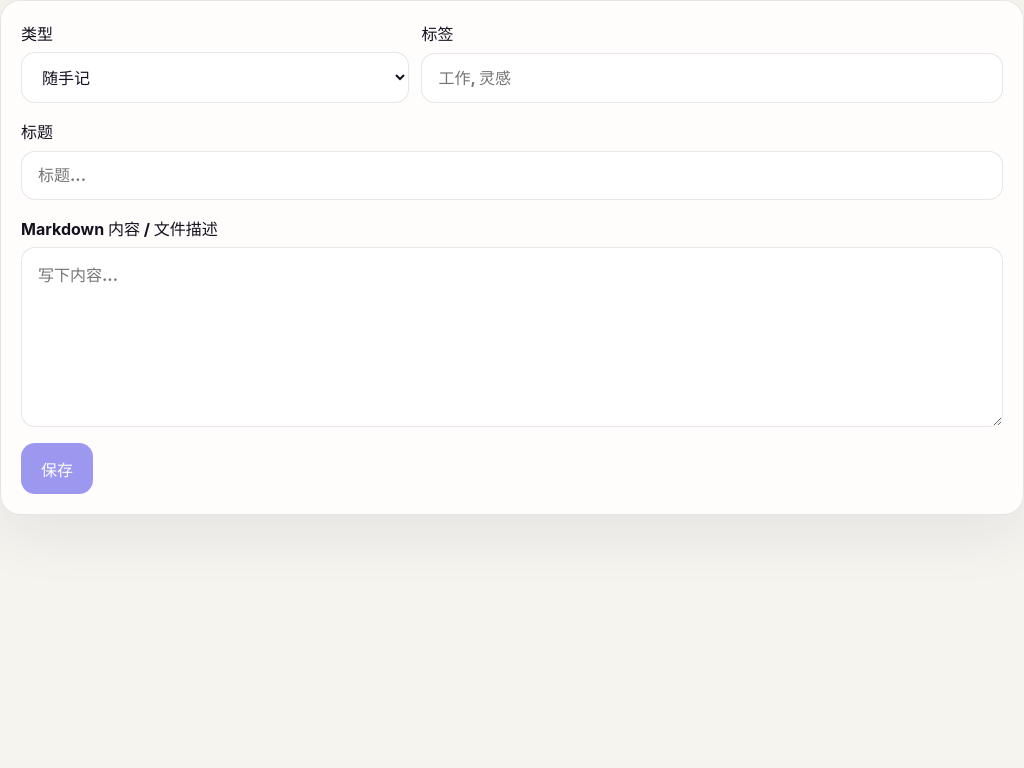
Test: Composer › keeps form values and shows an error when saving fails
In the field labelled "标题": (512, 175) 21,151 -> 1003,200, type "Unsaved note"
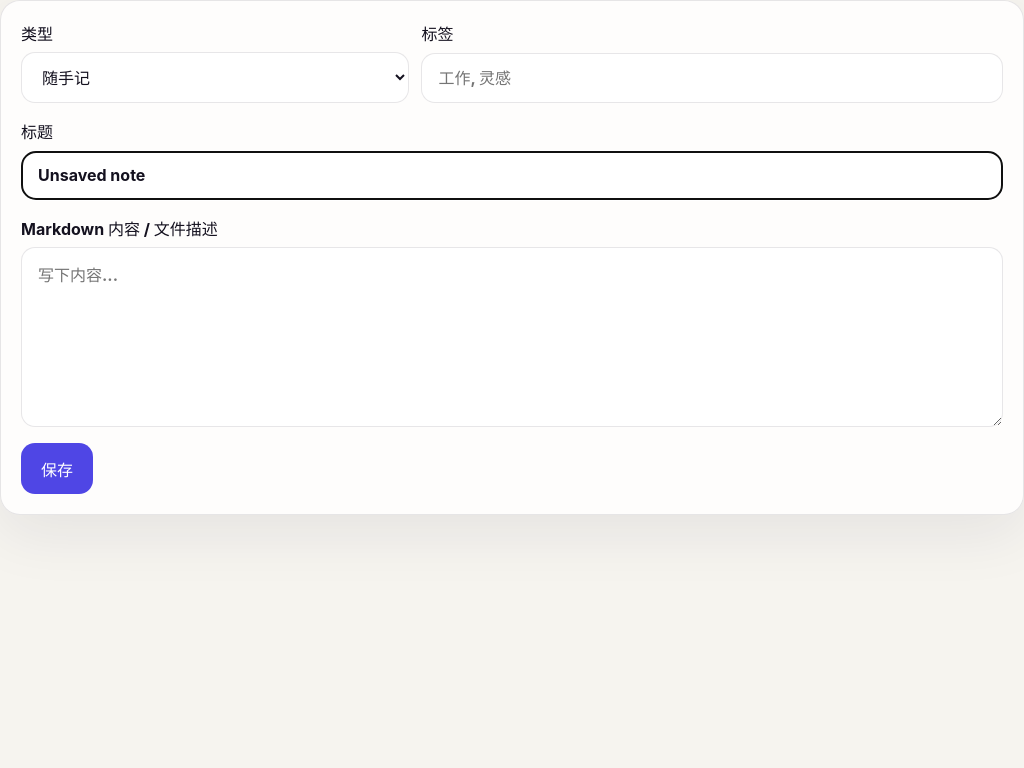
In the text box labelled "Markdown 内容 / 文件描述": (512, 337) 21,247 -> 1003,427, type "Keep this body"
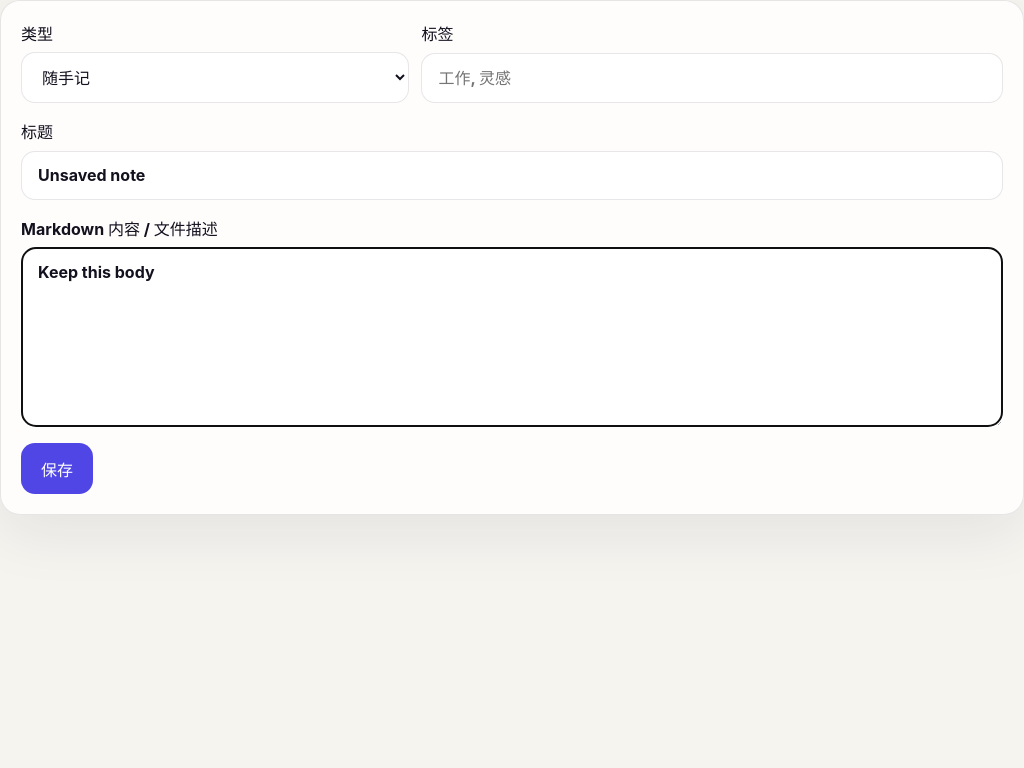
Click the button "保存": click(57, 468) 21,443 -> 93,494
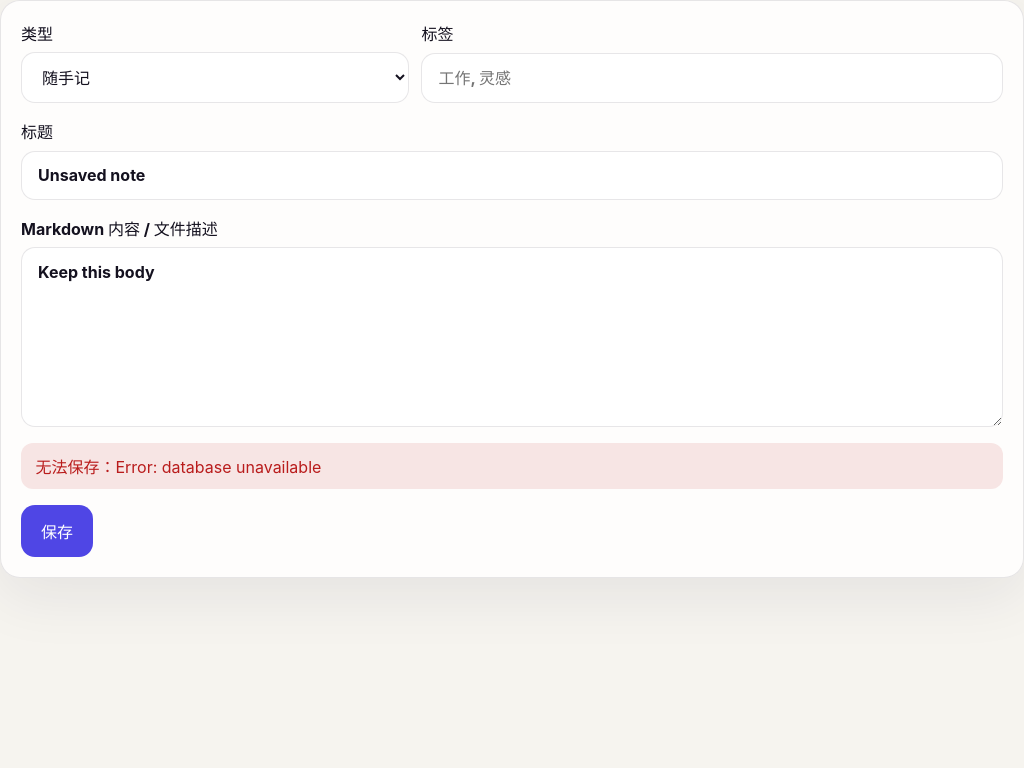
Expected: the button "保存" is enabled, 21,505 -> 93,556
Expected: the message shows "database unavailable", 35,457 -> 321,477
